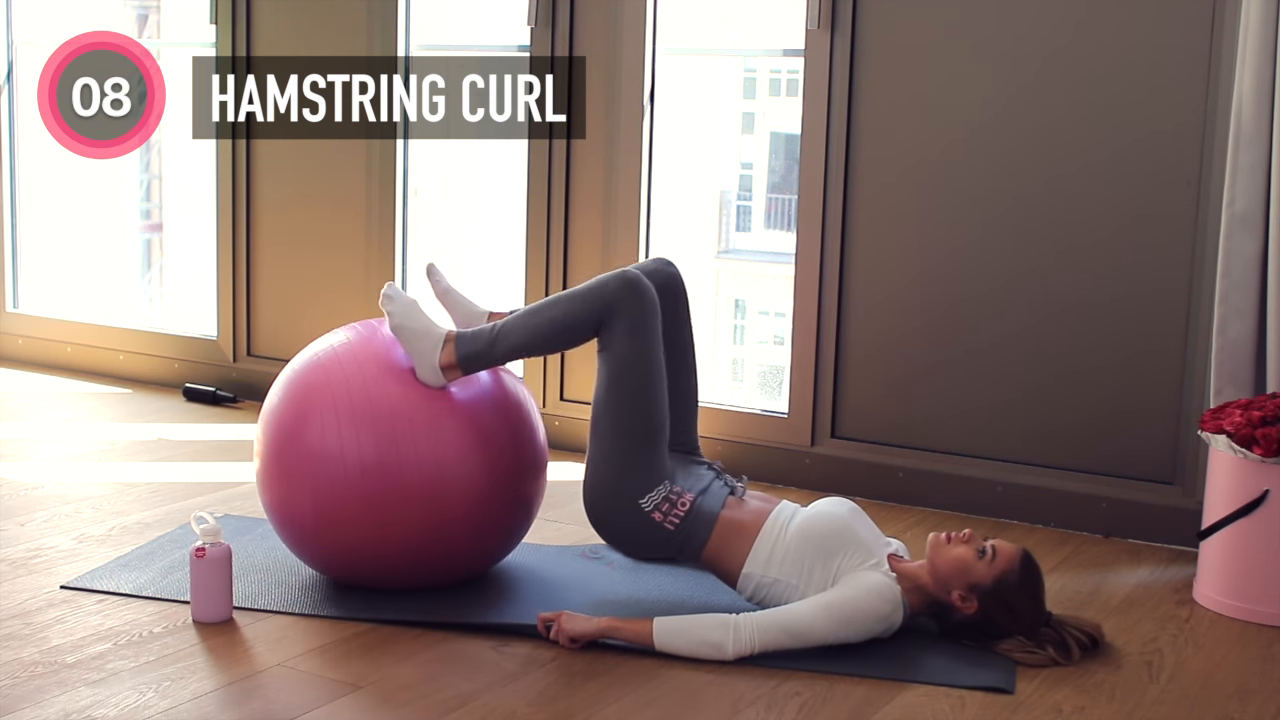yogaball: (251, 315, 554, 595)
